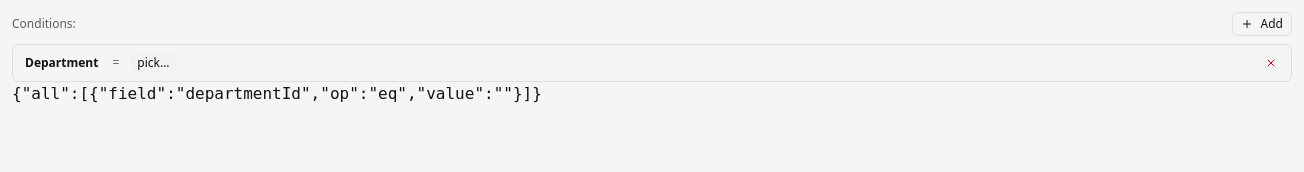
Test: editing a value › picks an id value from the option list, showing labels not ids
Click the button "pick…".
click(153, 63)  # box [129,55,177,71]
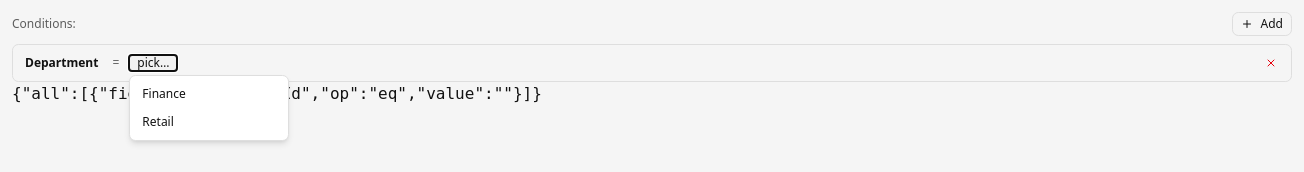
Click the button "Retail".
click(209, 122)  # box [130,108,288,136]
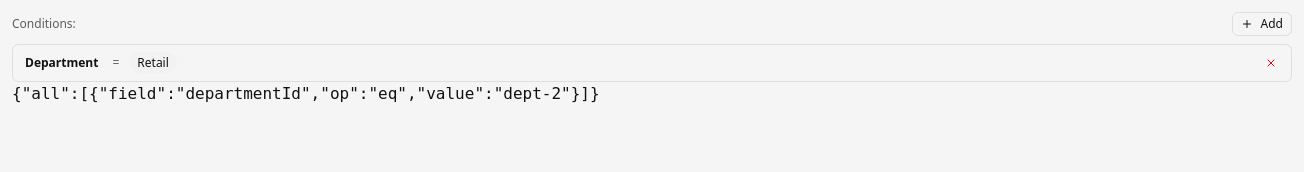
Now the text "Retail" is shown, box [129,52,177,73]
